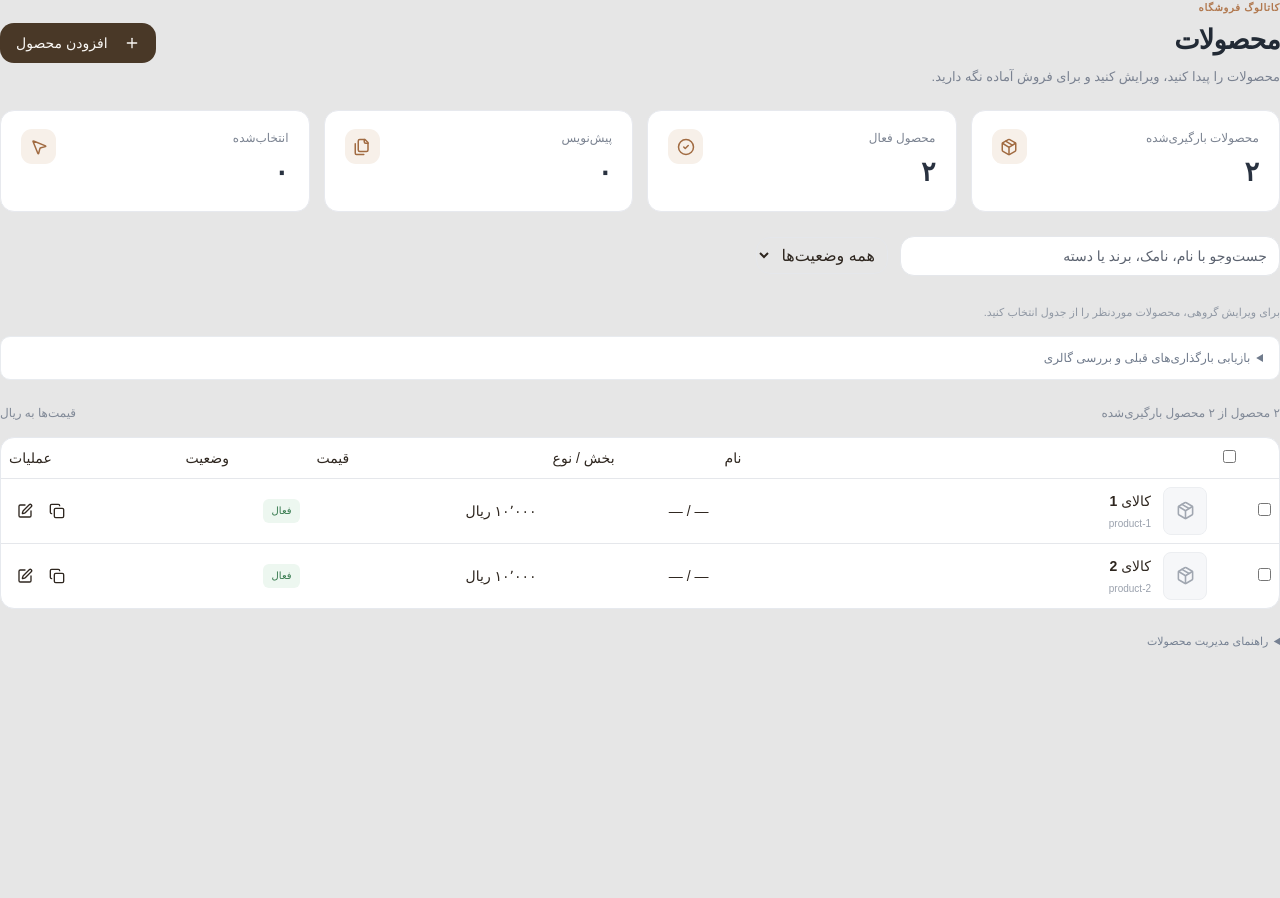
Test: admin product management UI › reports partial completion and reloads persisted state without claiming complete success
Expected: the checkbox named "انتخاب کالای 1" is shown, 1258,502 -> 1271,516
What coordinates should you click on to do the following:
click the checkbox named "انتخاب محصولات نمایش‌داده‌شده"
I would click on:
 (1230, 456)
Its box is 1223,450 -> 1236,463.
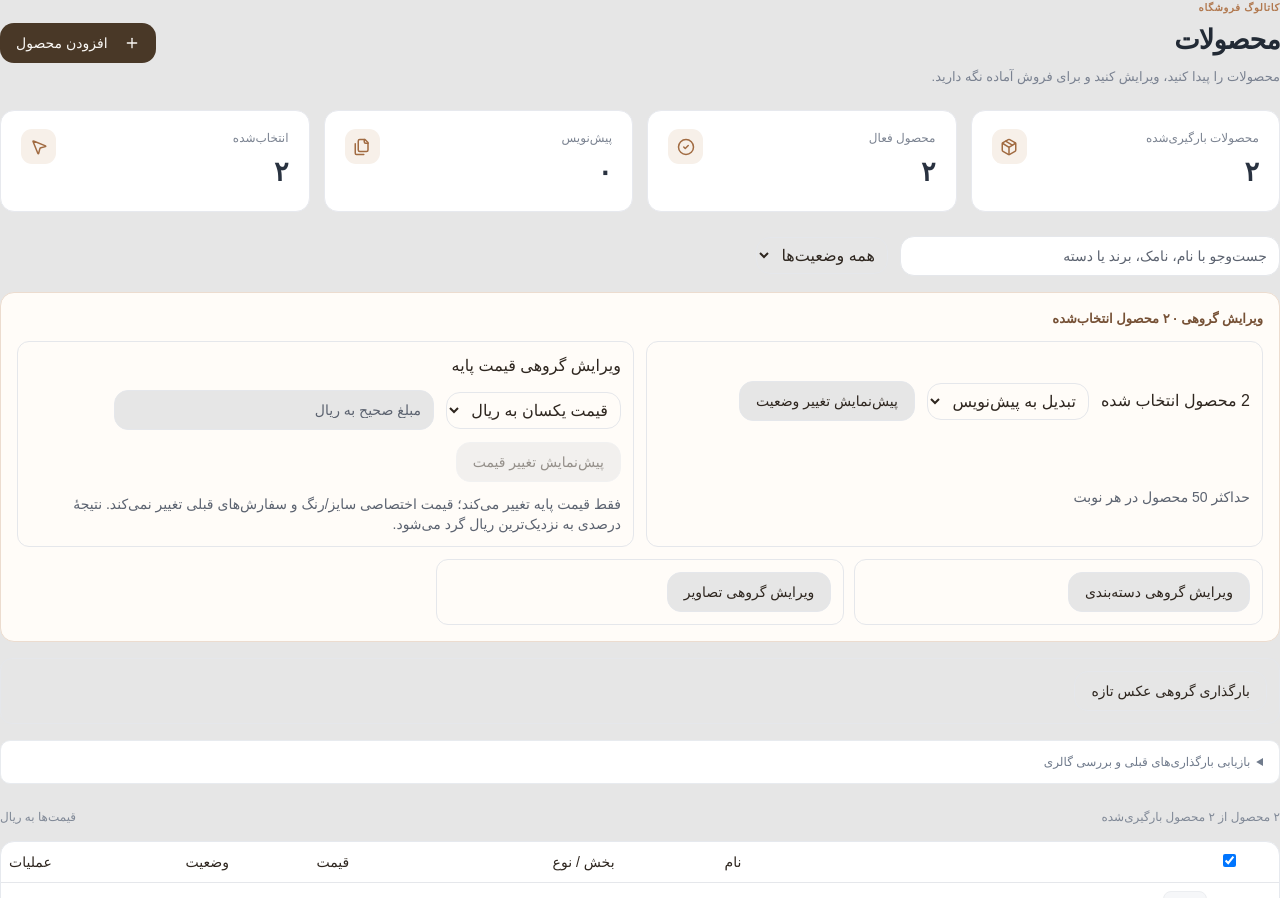
What coordinates should you click on to do the following:
click the button "پیش‌نمایش تغییر وضعیت"
I would click on:
 (827, 401)
Its box is 739,381 -> 915,421.
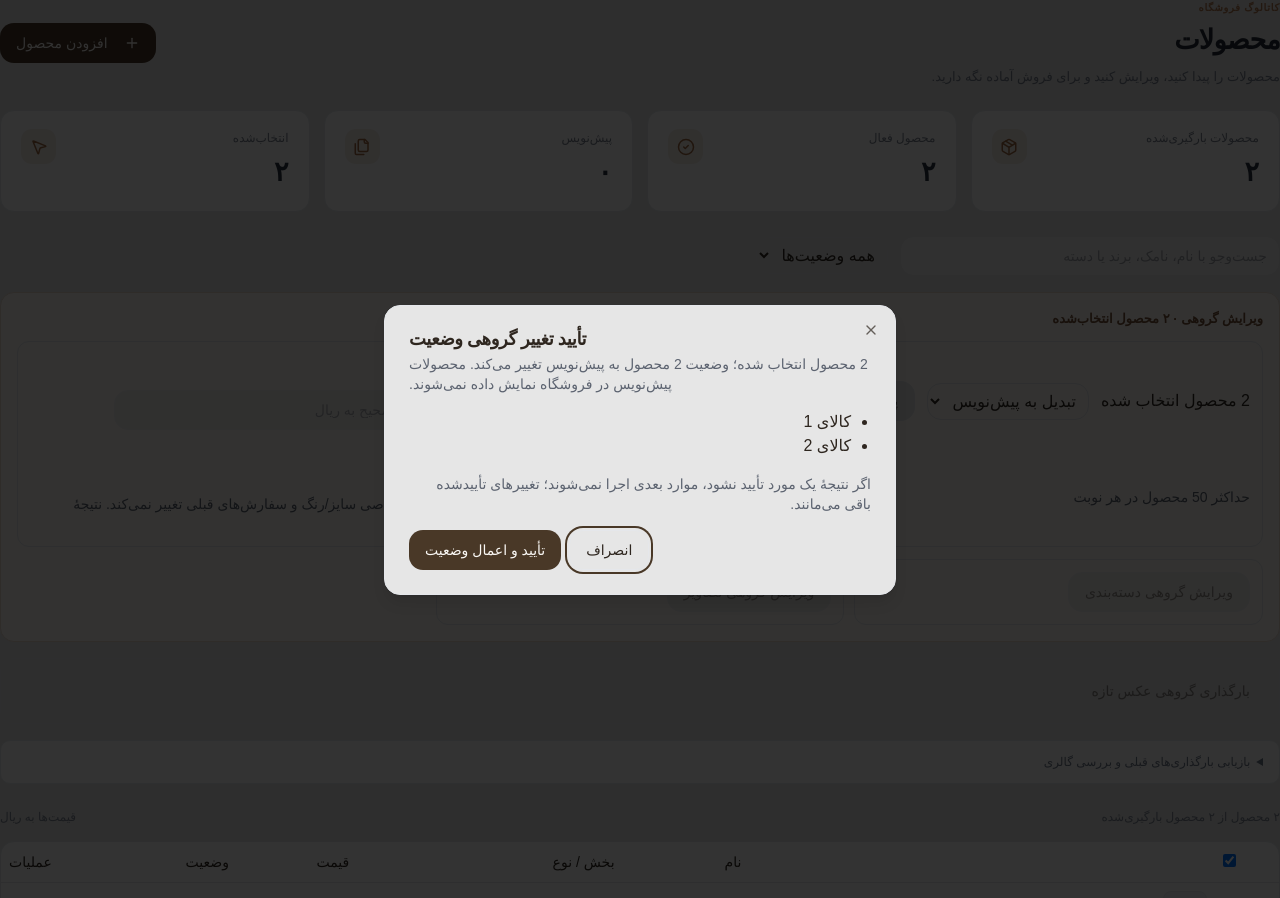
What coordinates should you click on to do the following:
click the button "تأیید و اعمال وضعیت"
I would click on:
 (485, 550)
Its box is 409,530 -> 561,570.
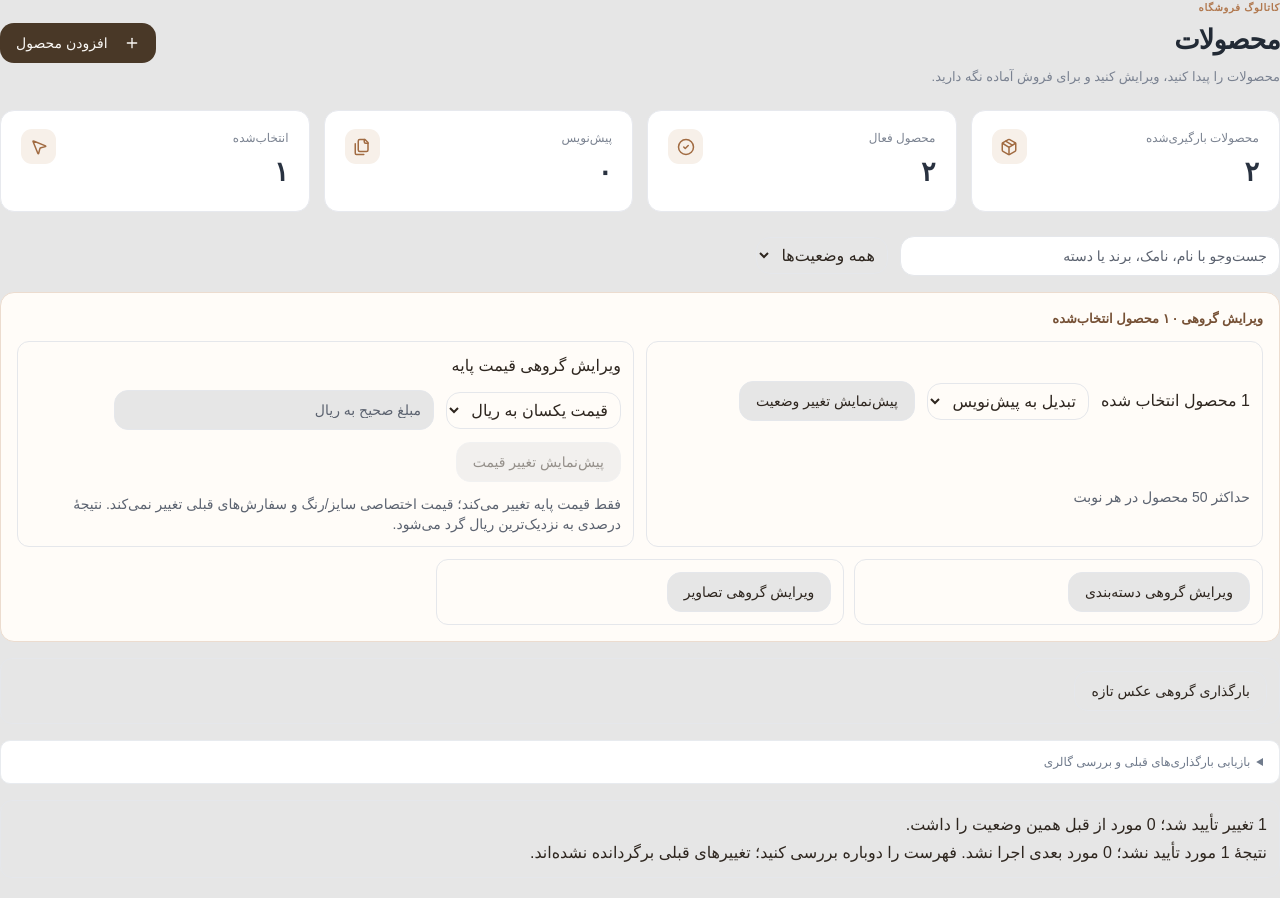
Expected: the text "نتیجهٔ 1 مورد تأیید نشد" is shown, 530,844 -> 1267,861
